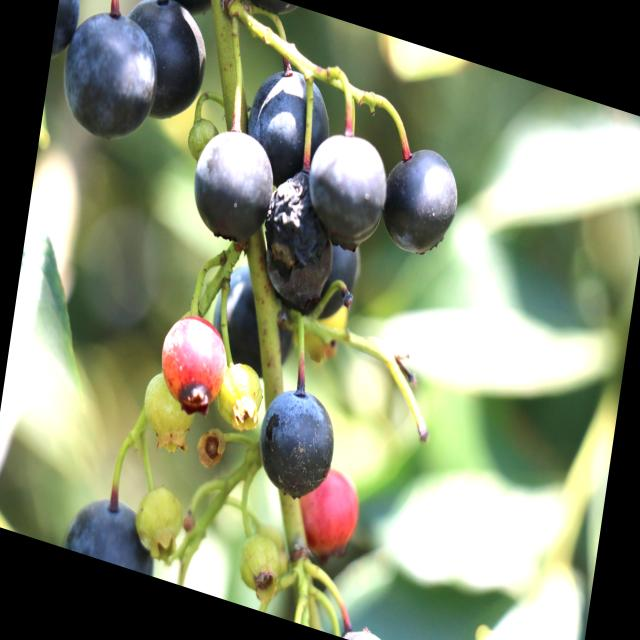blueberry: (52, 0, 171, 163), (233, 47, 349, 212), (197, 240, 318, 396), (292, 113, 398, 269), (178, 112, 286, 262), (109, 0, 221, 140), (245, 369, 347, 515), (372, 130, 469, 276), (253, 147, 346, 295), (55, 476, 171, 579), (248, 212, 341, 322), (306, 228, 369, 332), (49, 0, 95, 80), (146, 0, 225, 30)
blueberry-halfripe: (154, 305, 234, 422), (296, 464, 362, 559)
blueberry-unripe: (135, 363, 201, 449), (130, 479, 192, 568), (214, 354, 265, 438), (234, 525, 284, 598)
